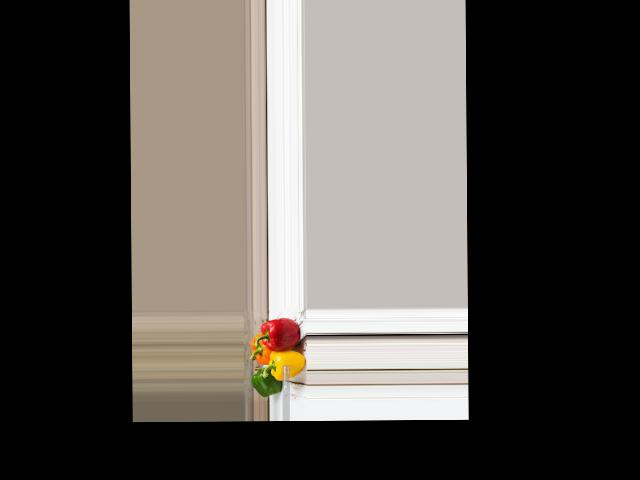bell_pepper: (249, 333, 273, 366)
